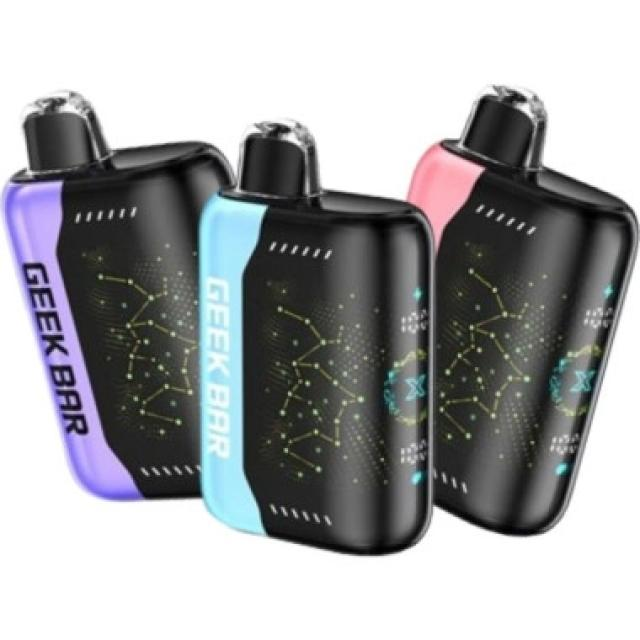Vape-images: (196, 116, 437, 556)
